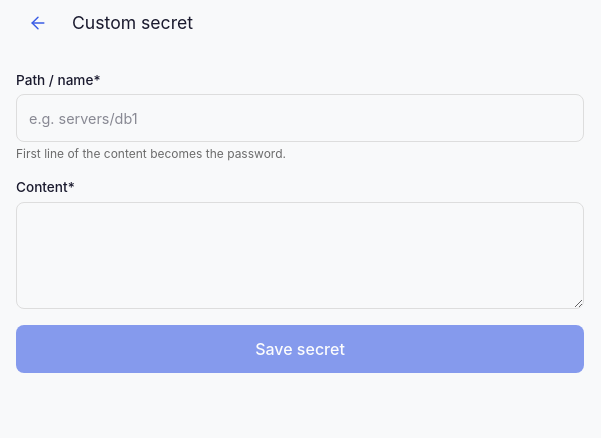
Test: CreateCustomPage › renders a red error for a generic create failure (baseline)
Step 1. Type "misc/foo" into the field with id "c-name" → (300, 118), box 16,94 -> 584,142
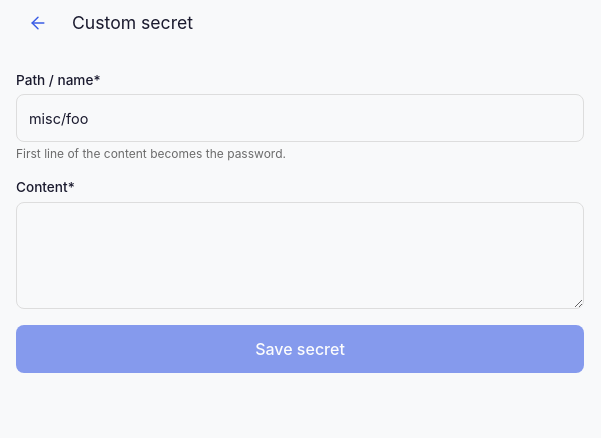
Step 2. Type "hunter2" into the text box with id "c-content" → (300, 256), box 16,202 -> 584,309
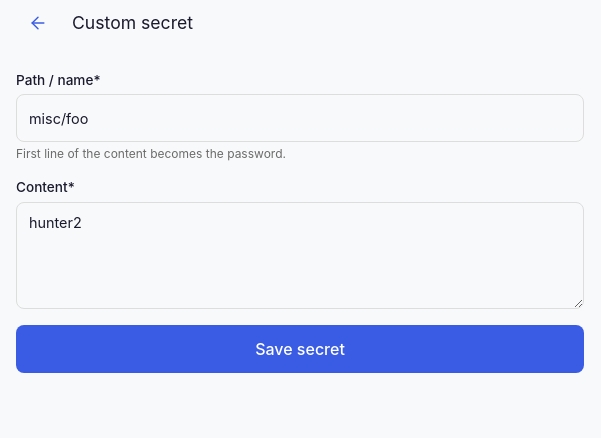
Step 3. Submit the form
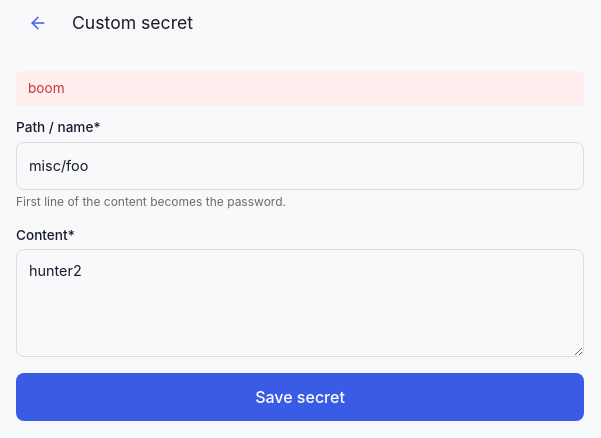
Now the message "boom" is shown, box 16,71 -> 584,106
